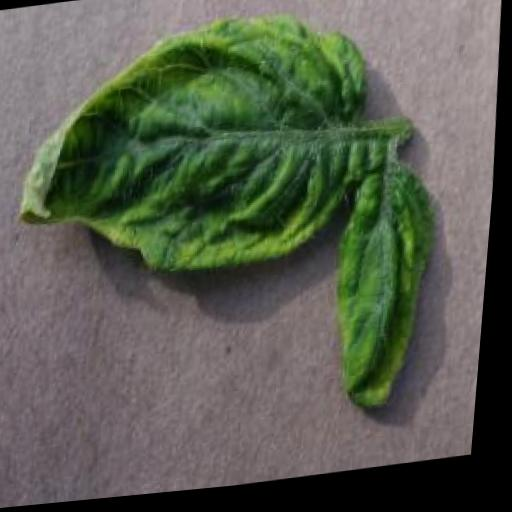Yellow Leaf Curl Virus: (11, 3, 380, 293), (330, 173, 448, 422)
